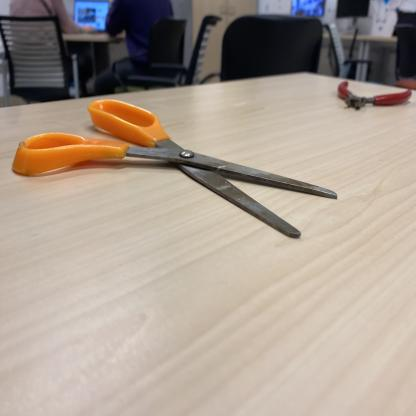scissors: (13, 99, 340, 241)
